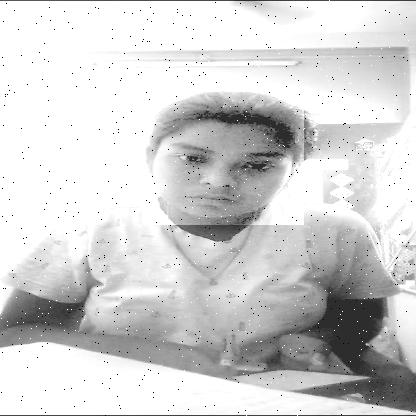Normal: (142, 90, 304, 225)
